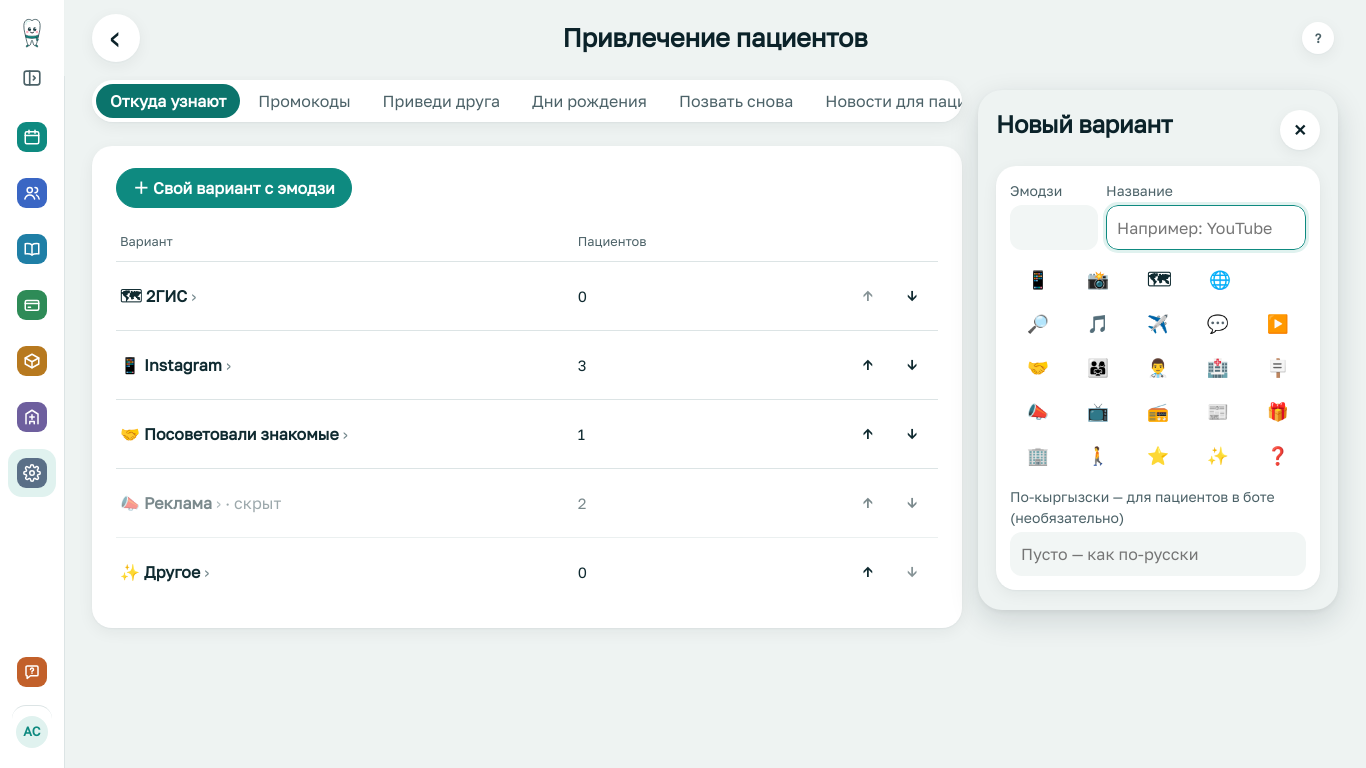
«Откуда узнают о клинике»: админ меняет порядок, добавляет с эмодзи из подсказок и скрывает
Earlier steps of the test are not shown.
Step 1. Type "YouTube" into the field labelled "Название" → (1206, 228), box [1106, 205, 1306, 250]
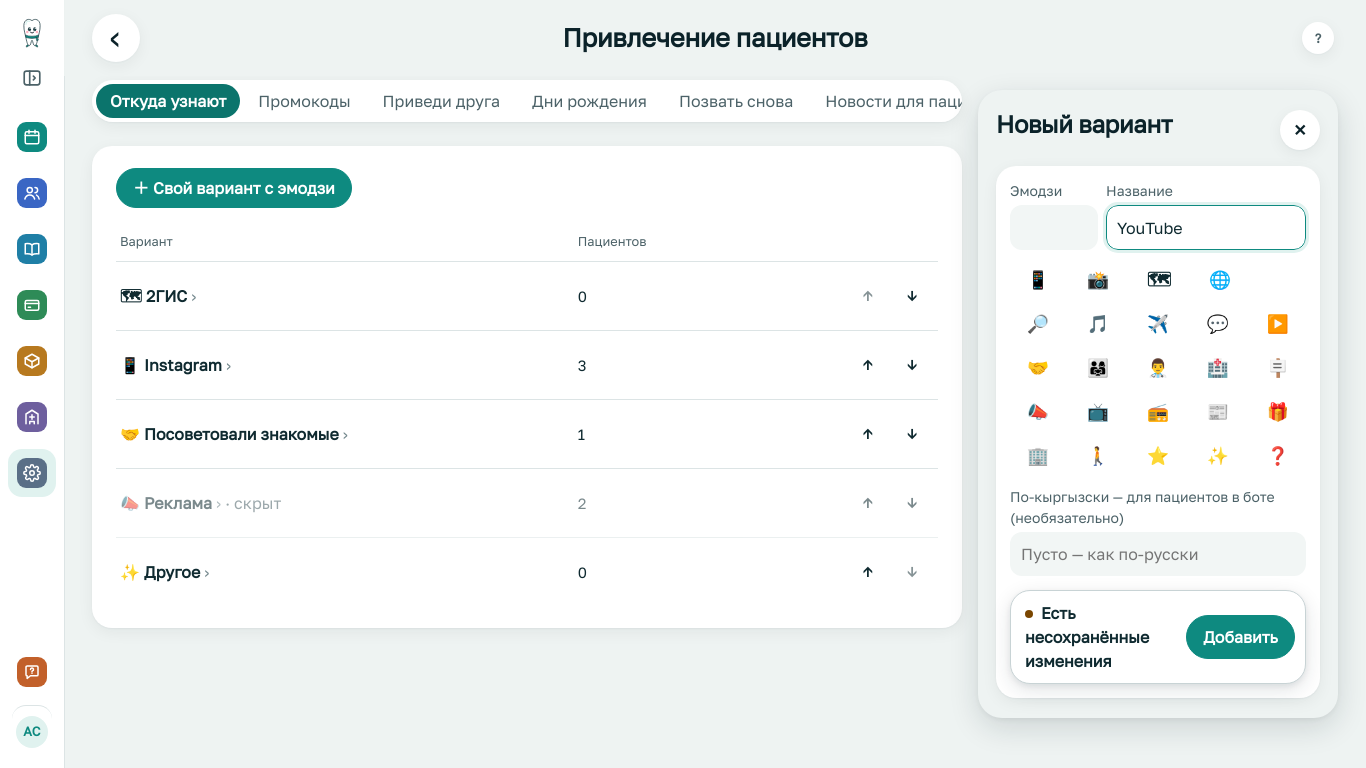
Step 2. Click the button "▶️" → (1278, 324), box [1250, 304, 1306, 344]
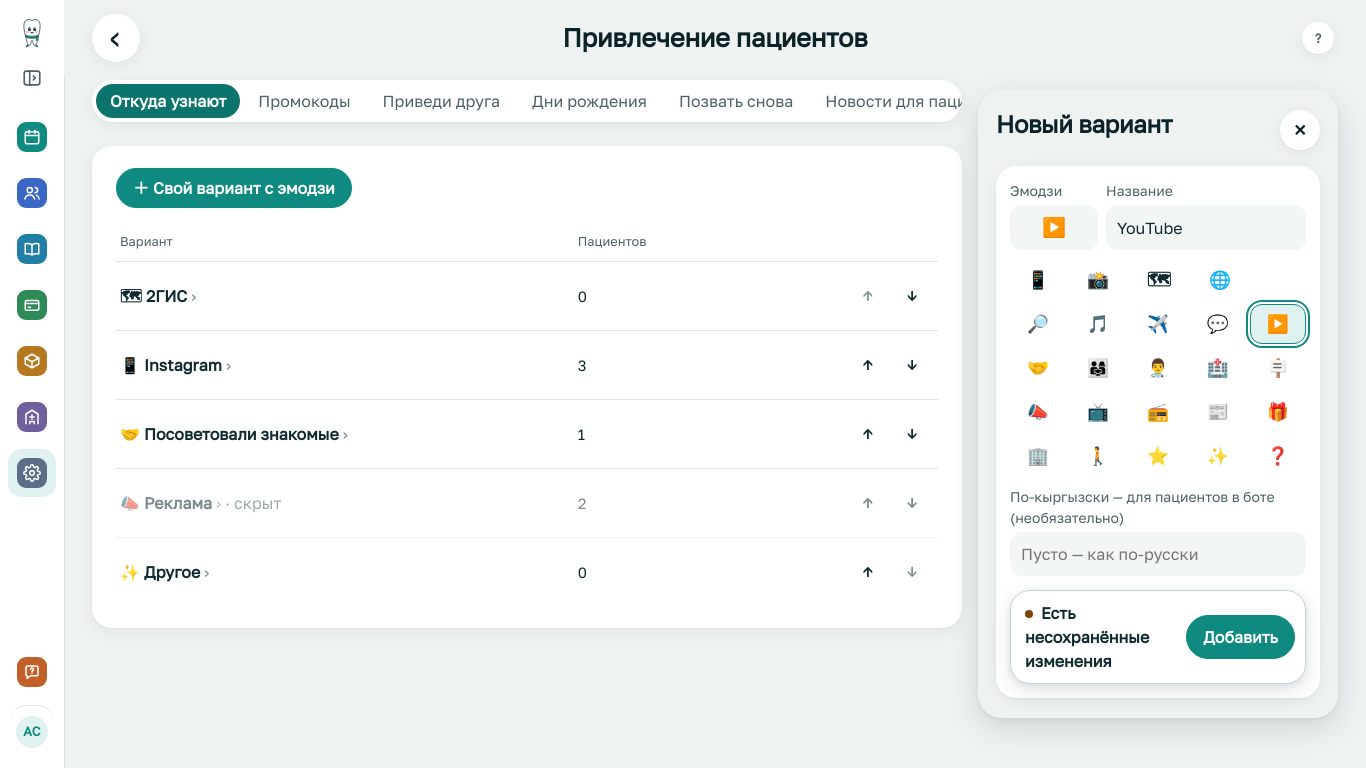
Expected: the field labelled "Эмодзи" holds "▶️", [1010, 205, 1098, 250]
Step 3. Click the button "Добавить" → (1241, 637), box [1186, 615, 1295, 659]
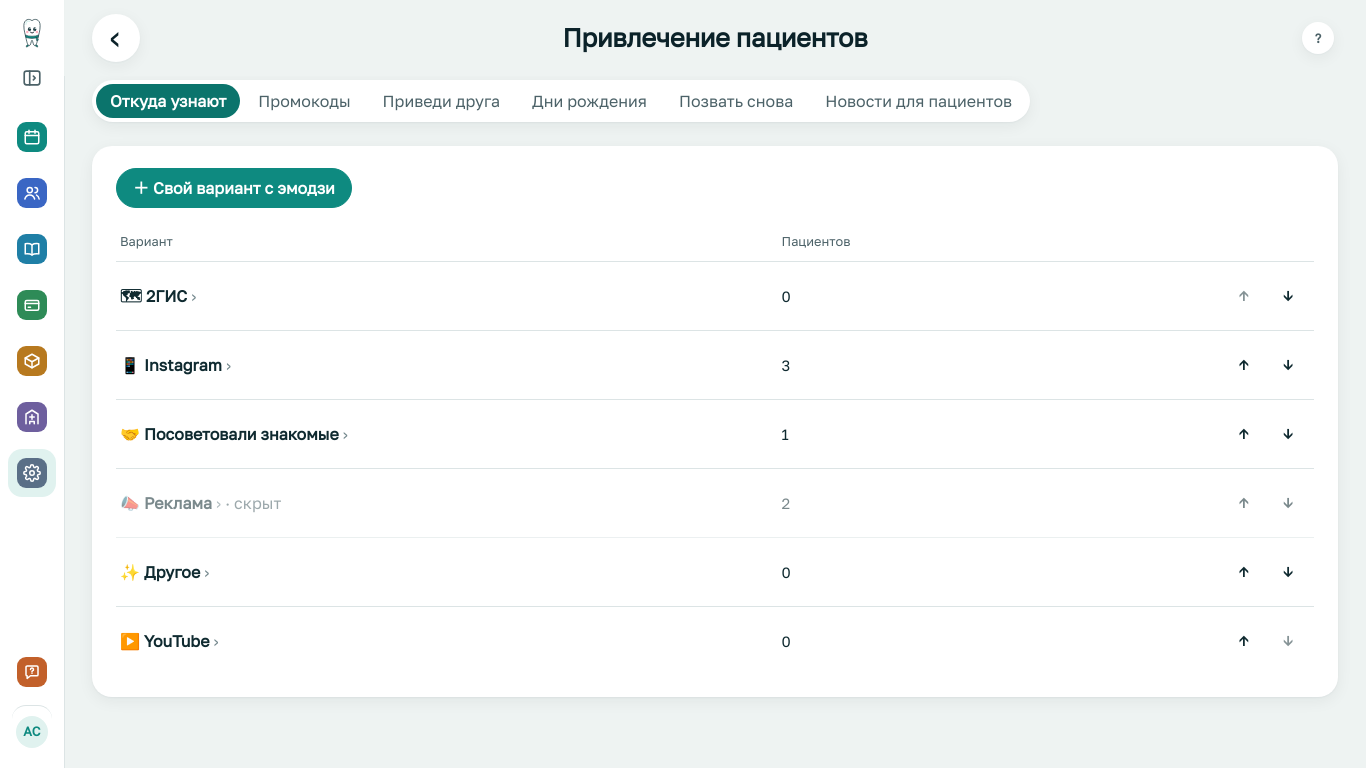
Expected: the button "▶️ YouTube" is shown, [120, 629, 219, 653]
Step 4. Click the button "🤝 Посоветовали знакомые" → (234, 434), box [120, 422, 348, 446]
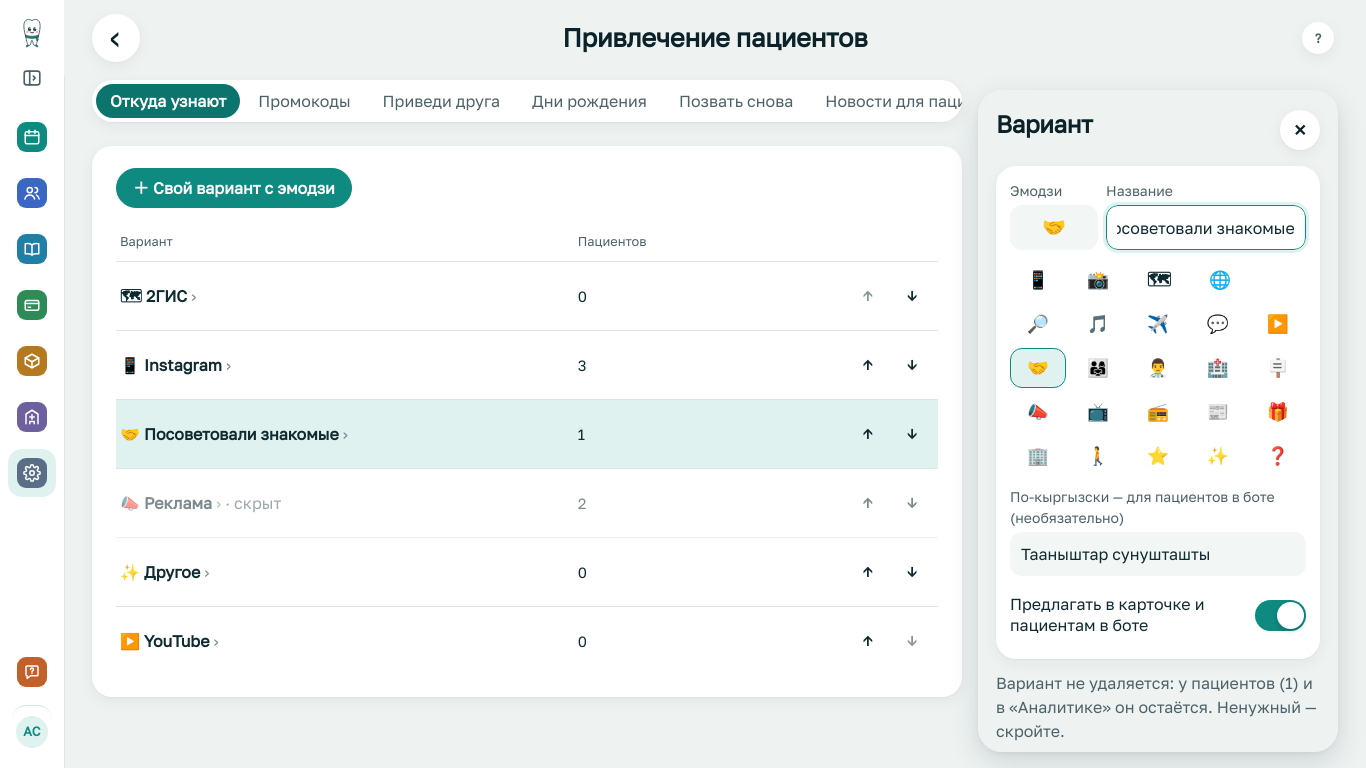
Step 5. Click the checkbox labelled "Предлагать в карточке и пациентам в боте" → (1280, 615), box [1255, 600, 1306, 631]
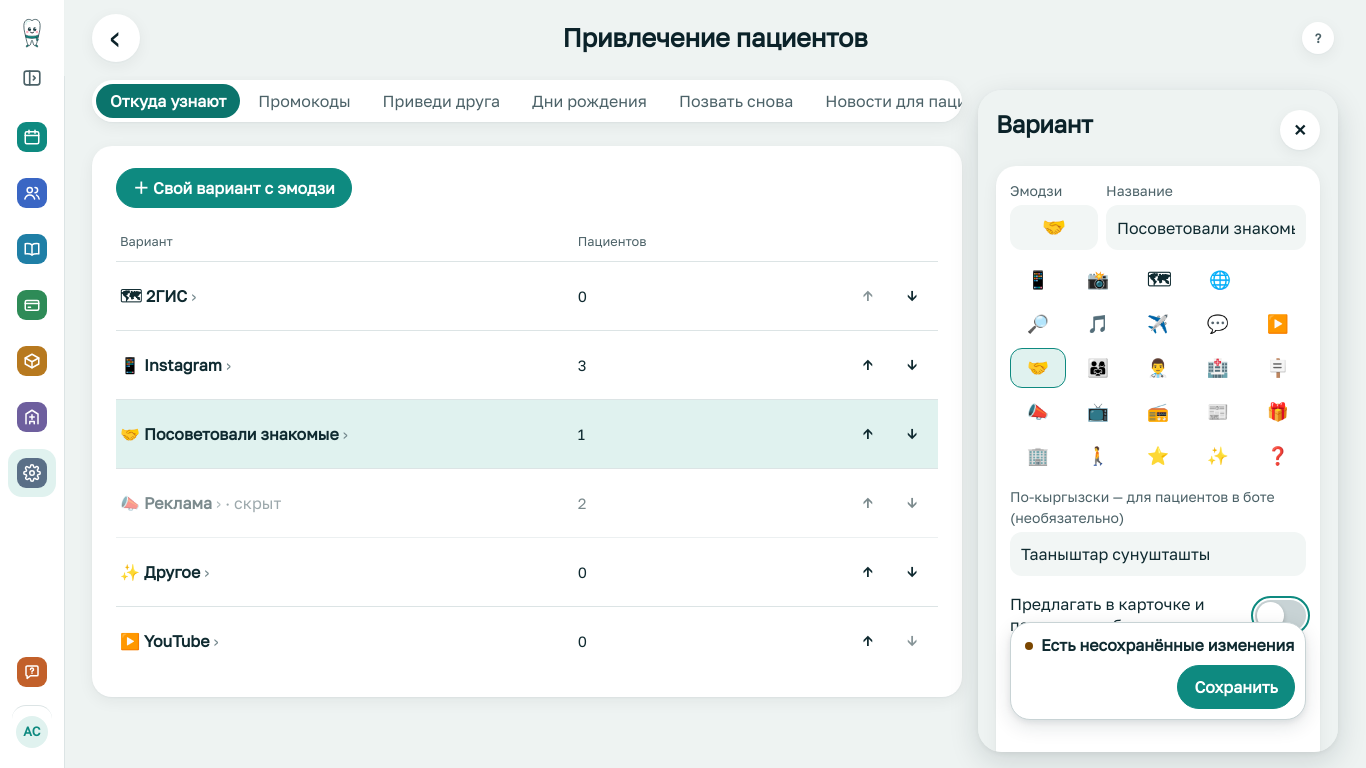
Step 6. Click the button "Сохранить" → (1236, 687), box [1177, 665, 1295, 709]
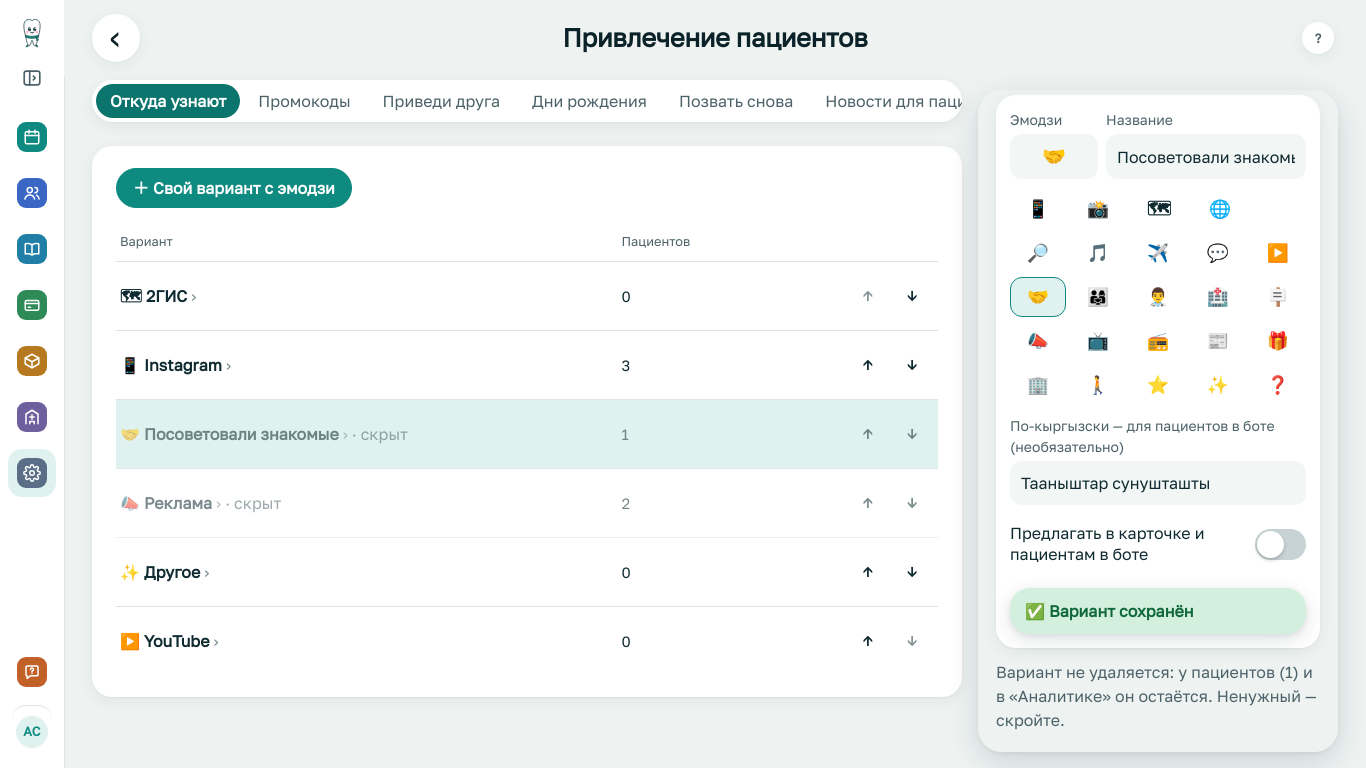
Expected: the message shows "Вариант сохранён", [1049, 601, 1194, 621]
